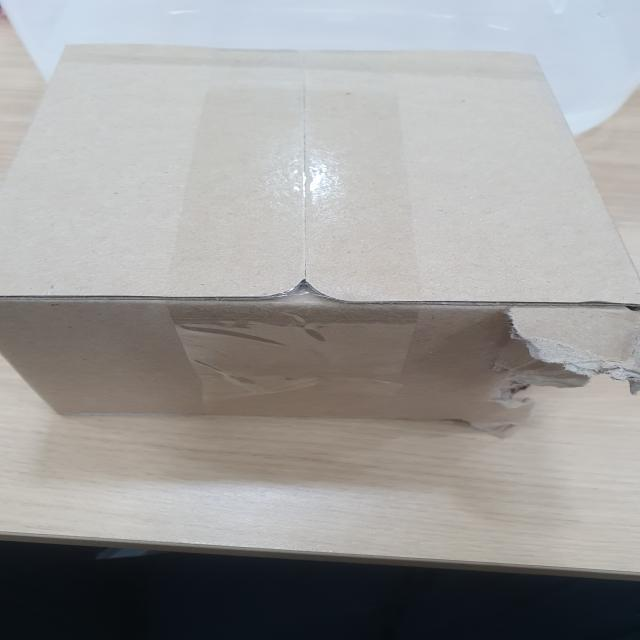hole: (493, 303, 638, 408)
